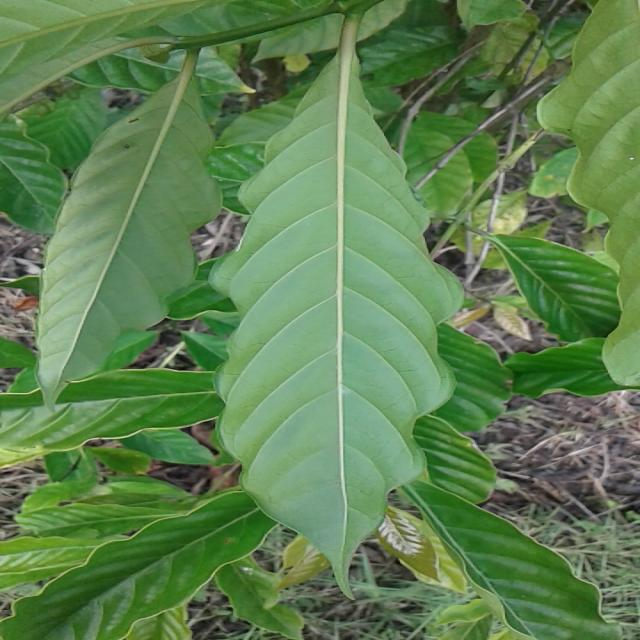Sanas: (214, 35, 464, 579)
